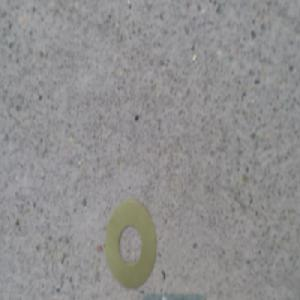Washer: (104, 199, 157, 289)
